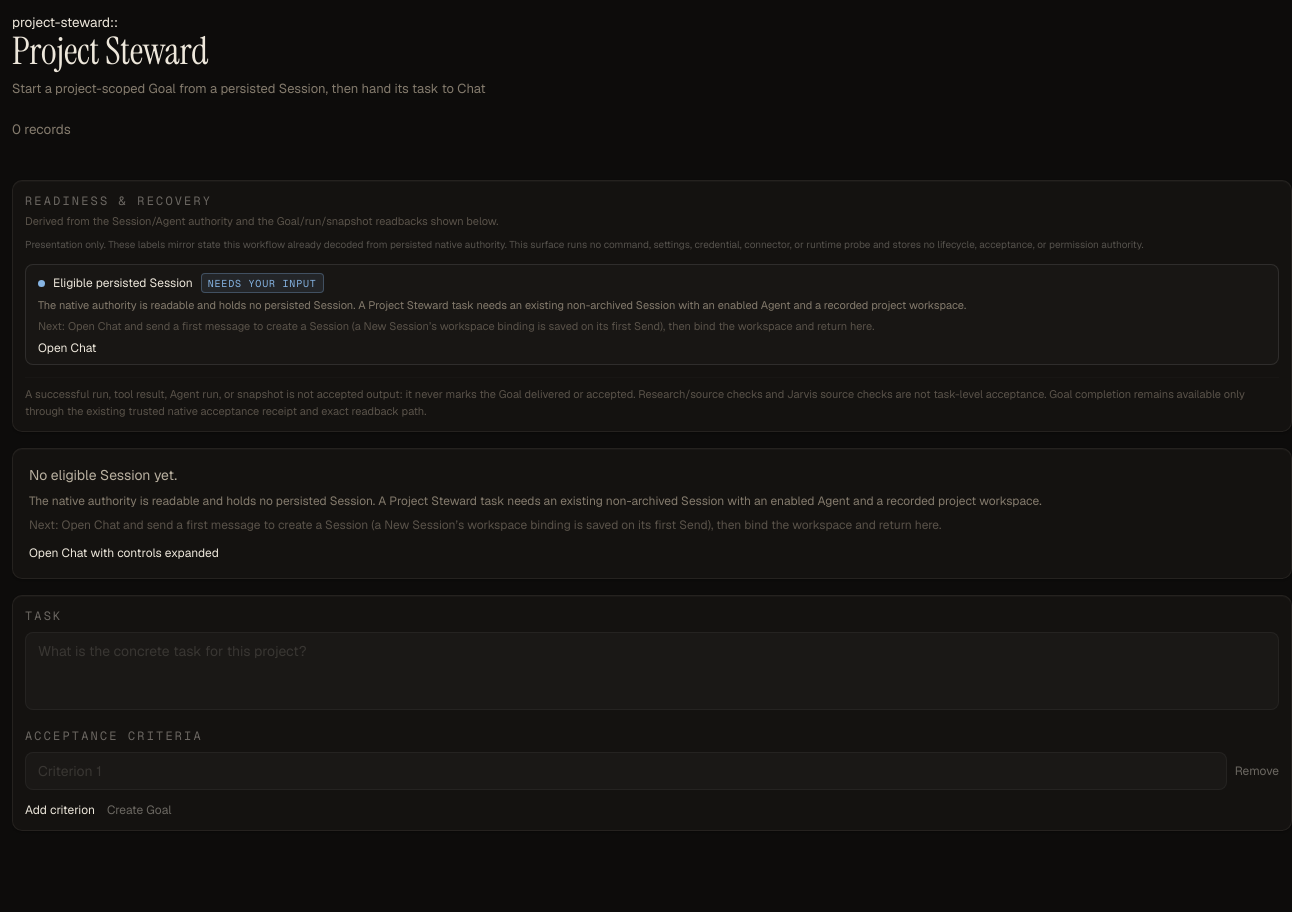
Test: Project Steward deep link to Chat › opens Chat with the controls expanded and no Session when none is eligible
This screenshot has width=1292, height=912.
What coordinates should you click on to do the following:
click the button "Open Chat with controls expanded"
I would click on:
 (124, 553)
Its box is x1=29 y1=545 x2=219 y2=561.
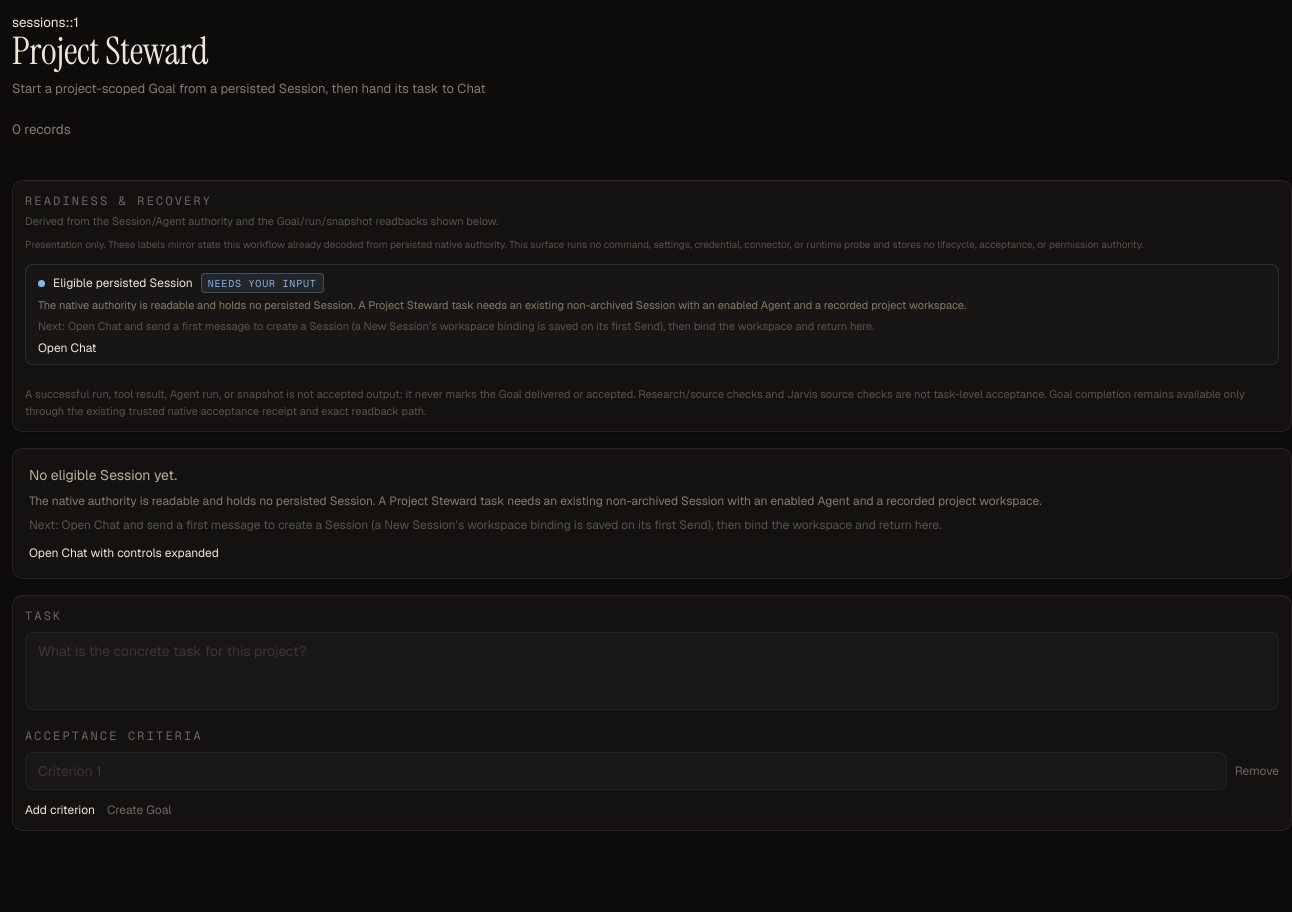
Expected: the text with test id "route-probe" reads "sessions::1", x1=12 y1=13 x2=79 y2=31
